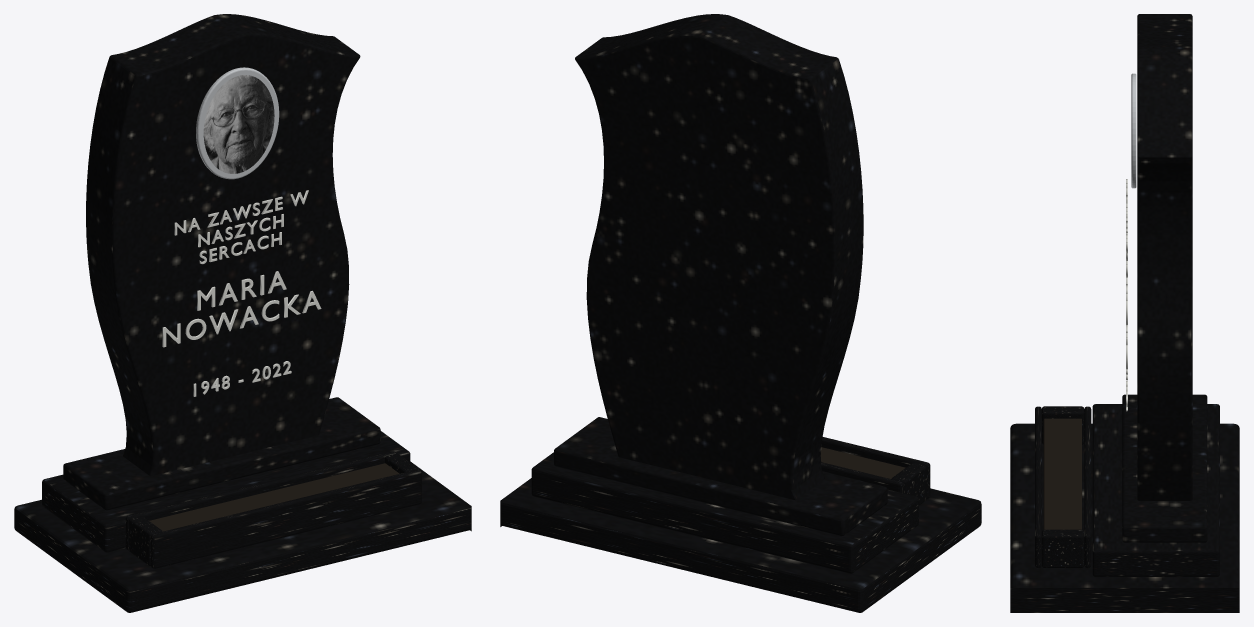
Rendered from modern-stele-monument.glb.
3 views of the same model, side by side, from view 1: azimuth 30°, elevation 25°; view 2: azimuth 150°, elevation 25°; view 3: azimuth 270°, elevation 25° (orthographic). The views are drawn at different scales.
Parts seen in each view (by area): view 1: Plyta_klasyczna_lukowa.001, Plyta_pozioma, Cokol_pod_plyta, Donica_wbudowana_przod, Stopien_pod_tablica, Medalion_zdjecie, Ziemia_w_donicy, Donica_wbudowana_tyl, Imie_i_nazwisko, Medalion_ramijka, Napis_pamieci, Napis_pamieci.001 (+2 smaller); view 2: Plyta_klasyczna_lukowa.001, Plyta_pozioma, Stopien_pod_tablica, Cokol_pod_plyta, Donica_wbudowana_przod, Ziemia_w_donicy, Donica_wbudowana_lewy_bok, Donica_wbudowana_tyl; view 3: Plyta_klasyczna_lukowa.001, Plyta_pozioma, Stopien_pod_tablica, Cokol_pod_plyta, Ziemia_w_donicy, Donica_wbudowana_prawy_bok, Donica_wbudowana_tyl, Donica_wbudowana_przod, Medalion_ramijka, Donica_wbudowana_lewy_bok.
Part boxes in pixels (x1,y1,x2,y2): Plyta_klasyczna_lukowa.001: (86, 14, 360, 476); Plyta_pozioma: (14, 461, 471, 612); Cokol_pod_plyta: (63, 397, 380, 510); Donica_wbudowana_przod: (150, 469, 421, 568); Stopien_pod_tablica: (42, 431, 410, 552); Medalion_zdjecie: (203, 75, 274, 173); Ziemia_w_donicy: (149, 463, 399, 531); Donica_wbudowana_tyl: (125, 451, 396, 550); Imie_i_nazwisko: (162, 271, 321, 347); Medalion_ramijka: (196, 67, 279, 179); Napis_pamieci: (174, 190, 308, 263); Napis_pamieci.001: (174, 191, 308, 264); Plyta_klasyczna_lukowa.001: (575, 14, 863, 500); Plyta_pozioma: (500, 478, 981, 612); Stopien_pod_tablica: (531, 452, 918, 573); Cokol_pod_plyta: (554, 417, 887, 536); Donica_wbudowana_przod: (821, 437, 930, 498); Ziemia_w_donicy: (820, 447, 905, 478); Donica_wbudowana_lewy_bok: (891, 462, 926, 505); Donica_wbudowana_tyl: (821, 462, 903, 493); Plyta_klasyczna_lukowa.001: (1137, 14, 1192, 500); Plyta_pozioma: (1010, 423, 1239, 612); Stopien_pod_tablica: (1092, 404, 1219, 576); Cokol_pod_plyta: (1122, 394, 1207, 542); Ziemia_w_donicy: (1043, 418, 1081, 529); Donica_wbudowana_prawy_bok: (1042, 529, 1084, 567); Donica_wbudowana_tyl: (1084, 406, 1091, 567); Donica_wbudowana_przod: (1035, 406, 1041, 567); Medalion_ramijka: (1131, 73, 1136, 188); Donica_wbudowana_lewy_bok: (1042, 406, 1084, 444).
Bounding box in the file's own units: 0.92 × 1.26 × 0.5384.
7 materials, 3 textured.
